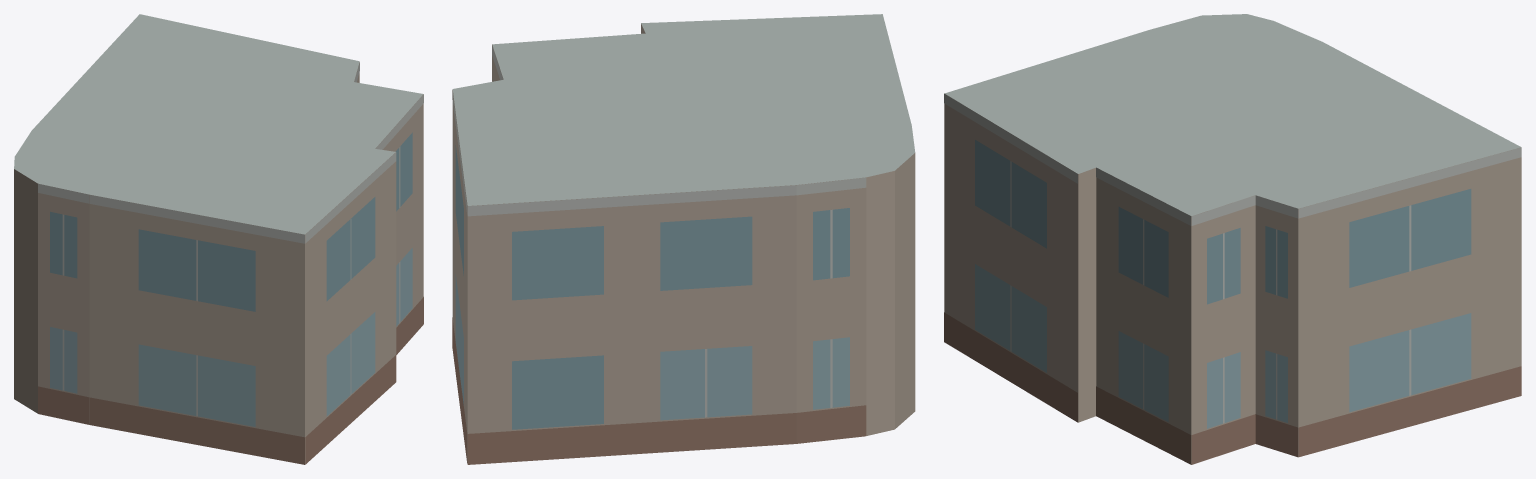
The model's file is survey-upis-32598504.glb.
3 views of the same model, side by side, from view 1: azimuth 30°, elevation 25°; view 2: azimuth 150°, elevation 25°; view 3: azimuth 270°, elevation 25° (orthographic). The views are drawn at different scales.
Parts seen in each view (by area): view 1: survey-upis-32598504.tmp; view 2: survey-upis-32598504.tmp; view 3: survey-upis-32598504.tmp.
Boxes of the visible parts, x1,y1,x2,y2 form: survey-upis-32598504.tmp: (14,14,423,464); survey-upis-32598504.tmp: (452,14,915,464); survey-upis-32598504.tmp: (944,14,1521,464).
Bounding box in the file's own units: 10.65 × 6.1 × 12.85.
